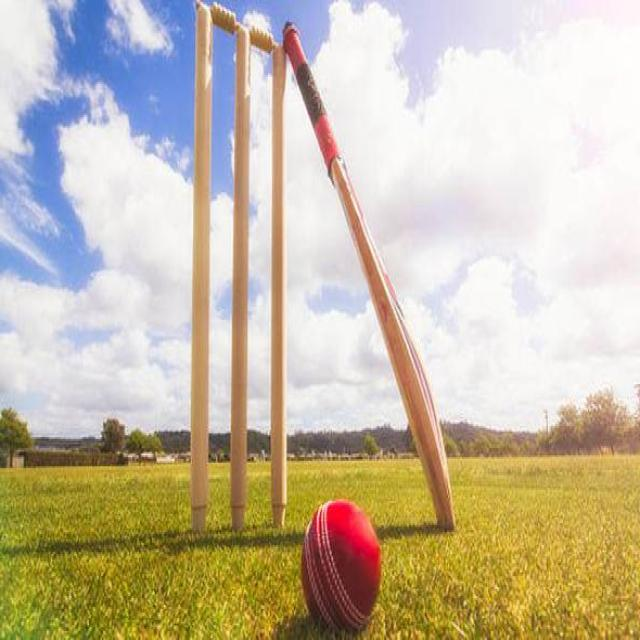ball: (302, 499, 379, 635)
